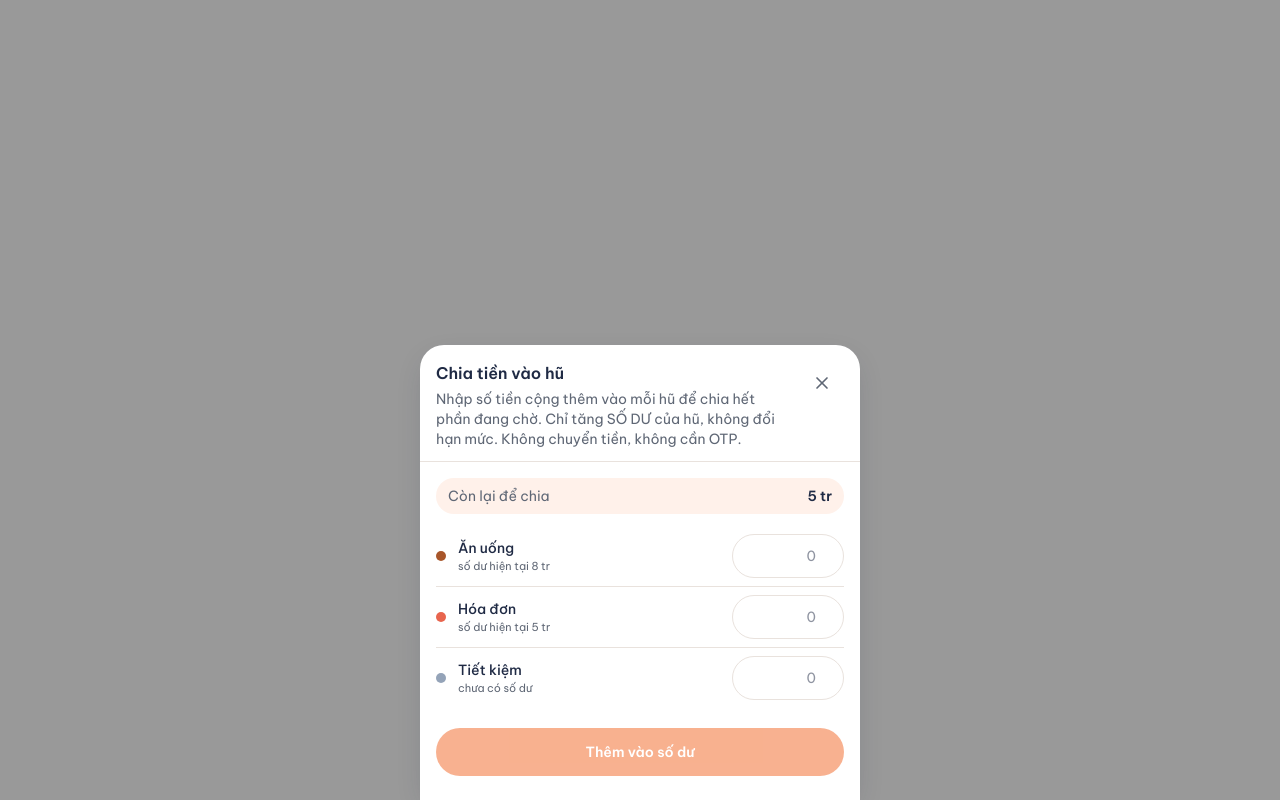
Test case: AllocationSheet — cộng thêm vào hũ › chặn lưu khi cộng quá phần còn lại (Σ mới > CASA) và hiện cảnh báo
In the number field named "Cộng thêm vào hũ Ăn uống": point(788, 556) [732,534,844,578], type "6000000"
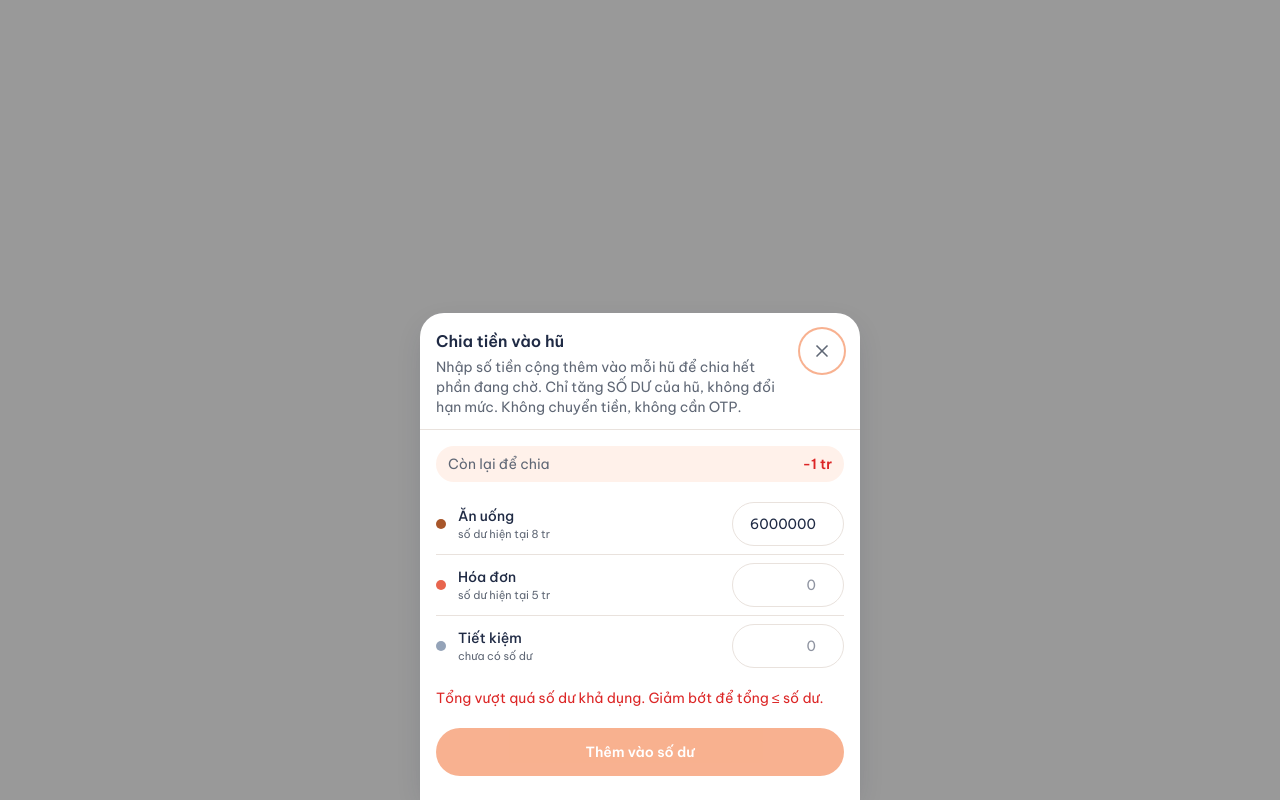
Expected: the button "Thêm vào số dư" is disabled, [436,728,844,776]
Expected: the text "Tổng vượt quá số dư khả dụng. Giảm bớt để tổng ≤ số dư." is shown, [436,688,844,708]
